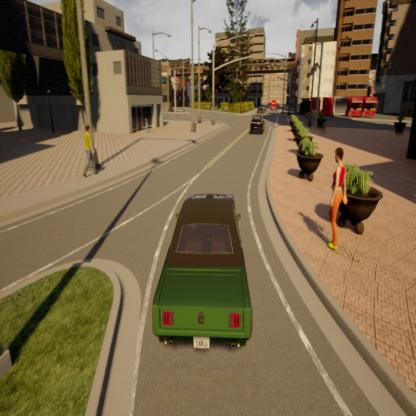Cars: (150, 184, 257, 363), (249, 110, 267, 141)
Pedestrian: (319, 144, 351, 260), (79, 122, 102, 185), (141, 116, 152, 138)
